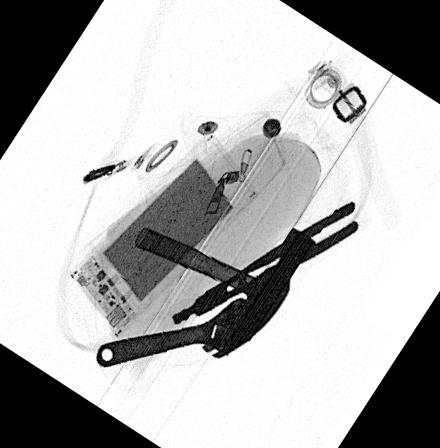Hammer: (132, 226, 314, 359)
Pliers: (166, 198, 360, 327)
Powerbank: (66, 130, 259, 340)
Wrench: (93, 297, 264, 367)
